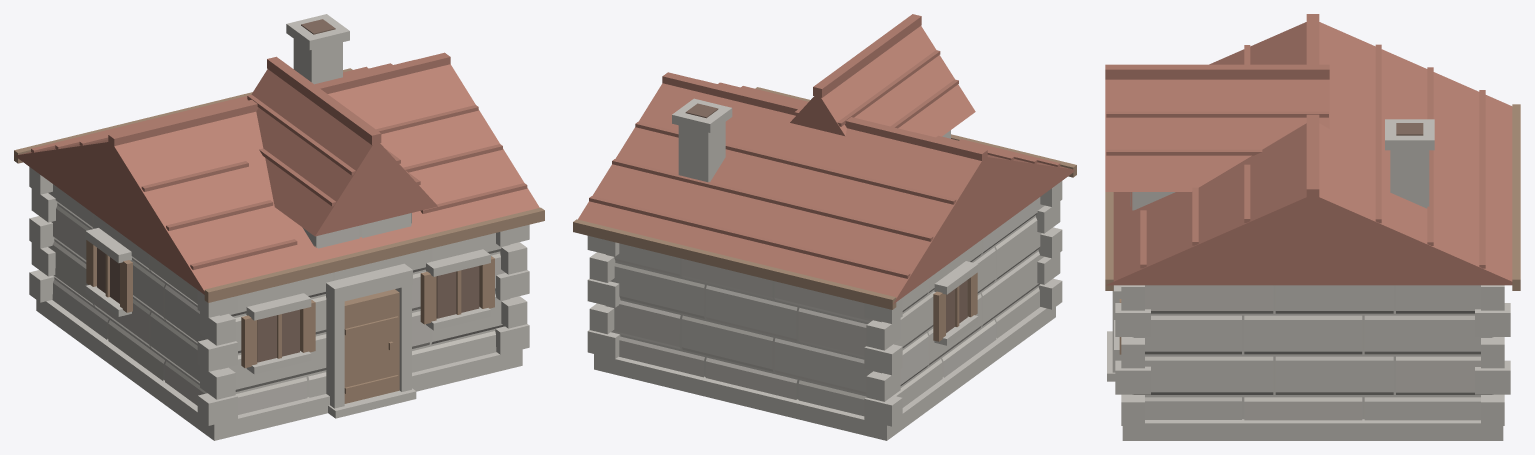
Rendered from stone-house-cross-gable.glb.
3 views of the same model, side by side, from view 1: azimuth 30°, elevation 25°; view 2: azimuth 150°, elevation 25°; view 3: azimuth 270°, elevation 25° (orthographic). The views are drawn at different scales.
Parts seen in each view (by area): view 1: stone-house-cross-gable_roof, stone-house-cross-gable_stone, stone-house-cross-gable_wood, stone-house-cross-gable_door, stone-house-cross-gable_window; view 2: stone-house-cross-gable_roof, stone-house-cross-gable_stone, stone-house-cross-gable_wood, stone-house-cross-gable_window; view 3: stone-house-cross-gable_roof, stone-house-cross-gable_stone, stone-house-cross-gable_wood.
Part boxes in pixels (x1,y1,x2,y2): stone-house-cross-gable_roof: (14, 52, 539, 294); stone-house-cross-gable_stone: (29, 14, 529, 440); stone-house-cross-gable_wood: (14, 68, 544, 368); stone-house-cross-gable_door: (344, 289, 399, 403); stone-house-cross-gable_window: (97, 19, 479, 362); stone-house-cross-gable_roof: (578, 14, 1074, 304); stone-house-cross-gable_stone: (587, 98, 1062, 440); stone-house-cross-gable_wood: (573, 87, 1076, 341); stone-house-cross-gable_window: (685, 103, 967, 332); stone-house-cross-gable_roof: (1105, 14, 1512, 285); stone-house-cross-gable_stone: (1107, 119, 1510, 440); stone-house-cross-gable_wood: (1105, 104, 1520, 354).
Bounding box in the file's own units: 2 × 1.56 × 2.
